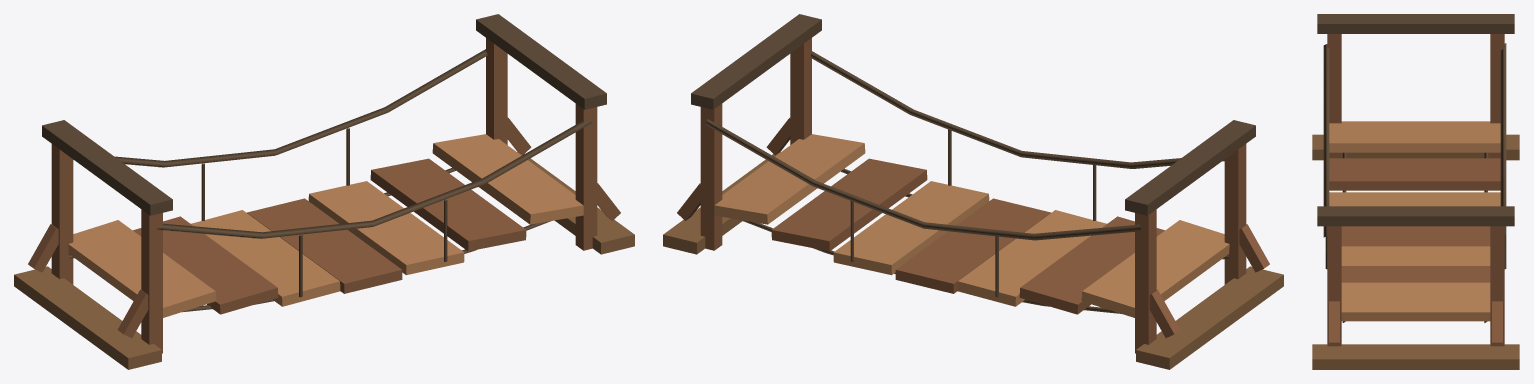
File: rope-bridge.glb
The picture shows the model from 3 angles, left to right: view 1: azimuth 30°, elevation 25°; view 2: azimuth 150°, elevation 25°; view 3: azimuth 270°, elevation 25°; orthographic projection. The views are drawn at different scales.
Visible parts, largest first — view 1: Merged_bridge-plank, Merged_bridge-plank-light, Merged_bridge-rope, Merged_city-timber; view 2: Merged_bridge-plank, Merged_bridge-plank-light, Merged_bridge-rope, Merged_city-timber; view 3: Merged_bridge-plank, Merged_bridge-plank-light, Merged_bridge-rope, Merged_city-timber.
Boxes of the visible parts, <box> form: Merged_bridge-plank: <box>28,38,620,353</box>; Merged_bridge-plank-light: <box>68,134,583,317</box>; Merged_bridge-rope: <box>42,14,606,312</box>; Merged_city-timber: <box>14,152,634,369</box>; Merged_bridge-plank: <box>677,38,1269,353</box>; Merged_bridge-plank-light: <box>714,134,1229,317</box>; Merged_bridge-rope: <box>691,14,1255,313</box>; Merged_city-timber: <box>663,152,1283,369</box>; Merged_bridge-plank: <box>1327,34,1504,346</box>; Merged_bridge-plank-light: <box>1329,121,1500,321</box>; Merged_bridge-rope: <box>1317,14,1514,322</box>; Merged_city-timber: <box>1312,134,1519,369</box>.
Size of what is drawn, in the model's own units: 6.3 by 1.87 by 2.46.
